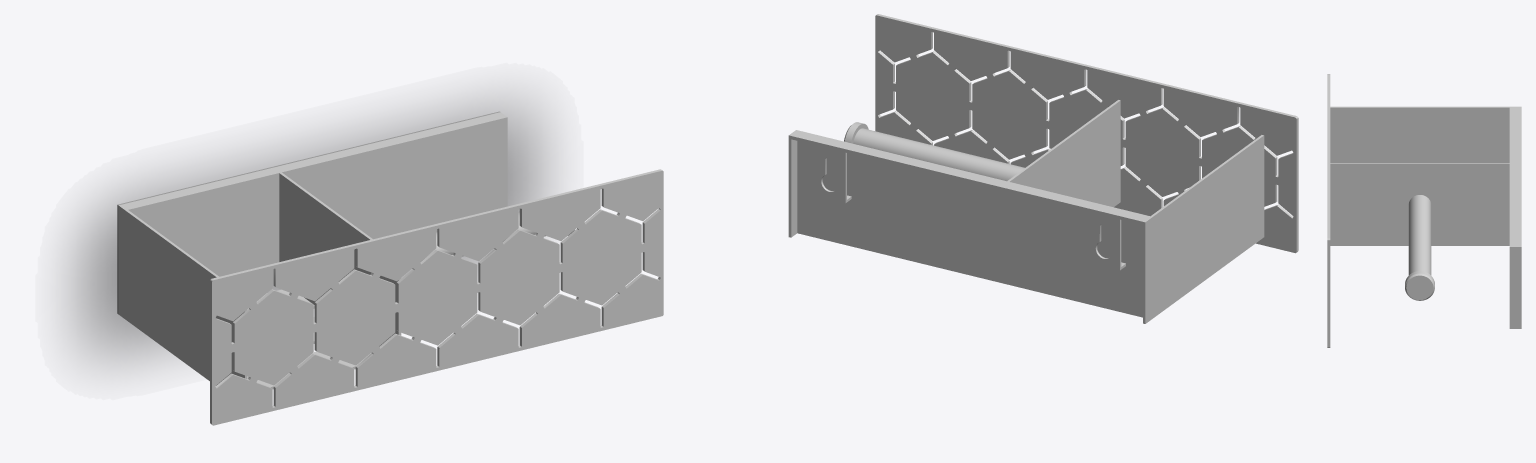
Rendered from bee-duetto.9ff1a87ae5.ar.glb.
The picture shows the model from 3 angles, left to right: view 1: azimuth 30°, elevation 25°; view 2: azimuth 150°, elevation 25°; view 3: azimuth 270°, elevation 25°; orthographic projection. The views are drawn at different scales.
Visible parts, largest first — view 1: NAUO1, object 2; view 2: NAUO1; view 3: NAUO1.
Boxes of the visible parts, box(x1,y1,x2,y2) form: NAUO1: box(117, 111, 663, 425); object 2: box(70, 102, 548, 360); NAUO1: box(788, 14, 1298, 323); NAUO1: box(1327, 74, 1521, 347).
Size of the model in its own units: 0.34 by 0.16 by 0.129.
Materials: 2 (1 with a texture image).
